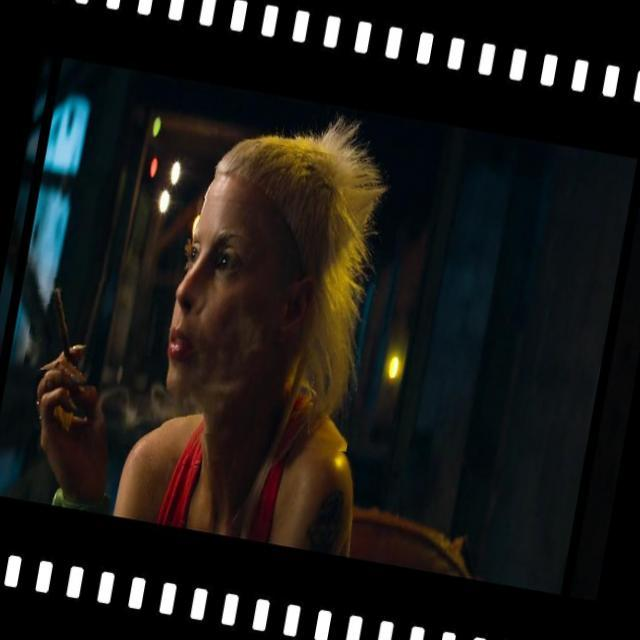cigarette: (22, 268, 112, 381)
